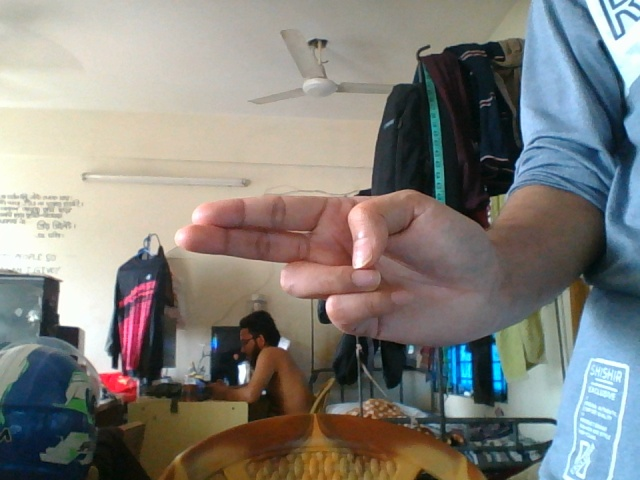ha: (179, 178, 567, 348)
